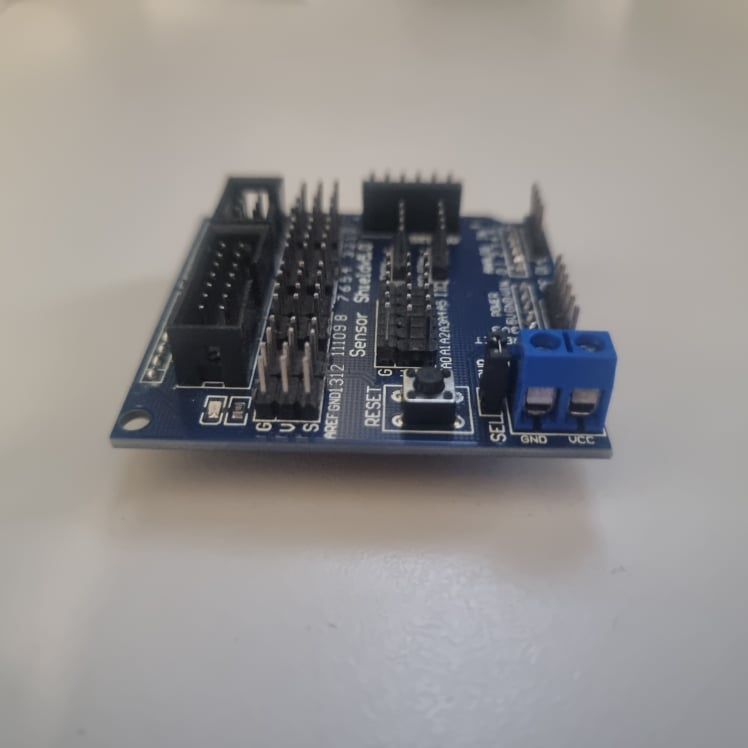5V EXPANSION: (108, 156, 623, 457)
